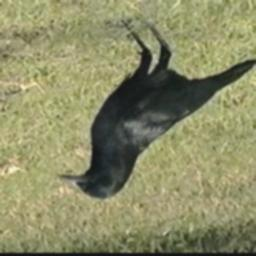Crow: (55, 17, 256, 200)
